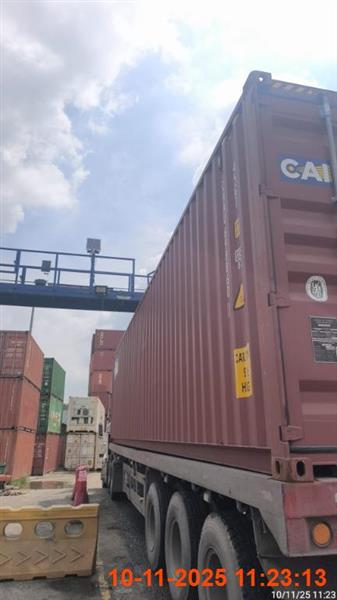broken: (97, 70, 335, 599)
